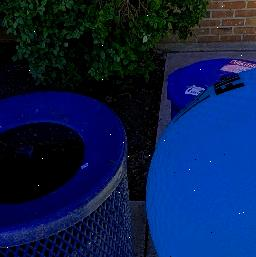algae: (148, 61, 256, 257)
